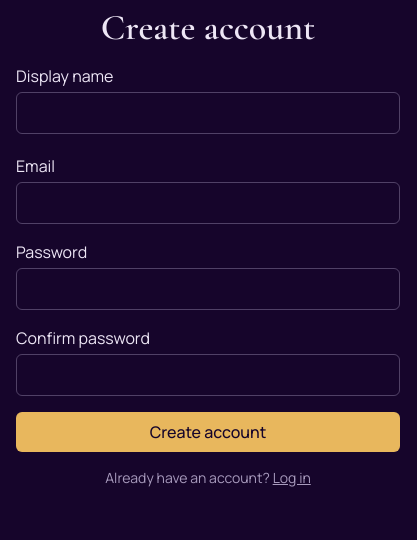
a signUp error renders the error message and no confirmation message
The image size is (417, 540).
Type "nightowl" into the field labelled "Display name" at x=208, y=113, box [16, 92, 400, 134]
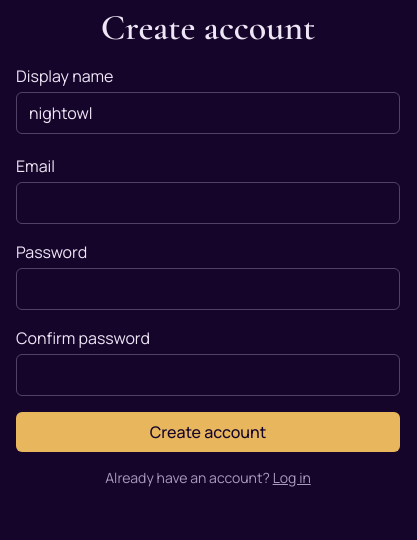
Type "nightowl@example.com" into the field labelled "Email" at x=208, y=203, box [16, 182, 400, 224]
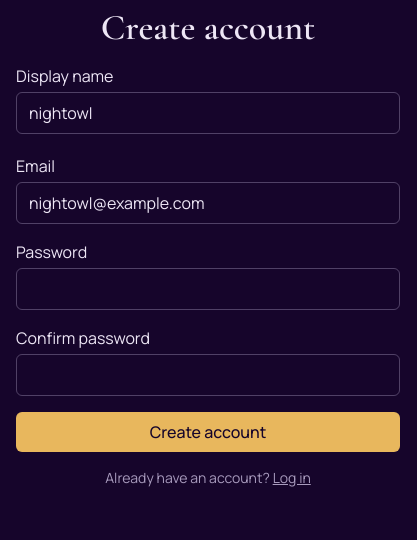
Type "Sup3r$ecret1" into the password field labelled "Password" at x=208, y=289, box [16, 268, 400, 310]
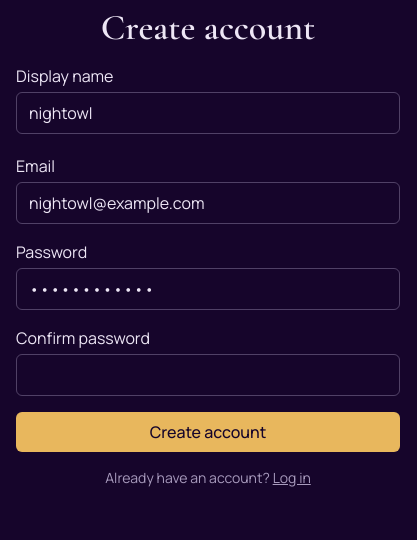
Type "Sup3r$ecret1" into the password field labelled "Confirm password" at x=208, y=375, box [16, 354, 400, 396]
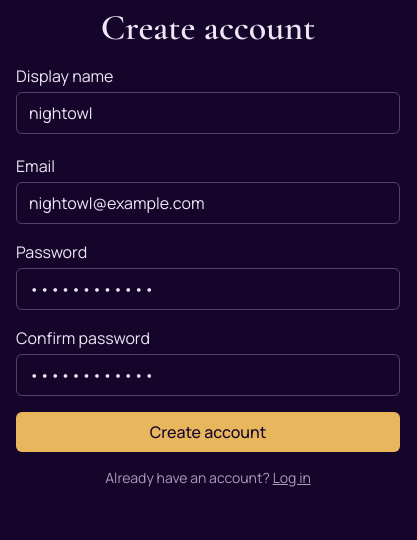
Click the button "Create account" at x=208, y=432, box [16, 412, 400, 452]
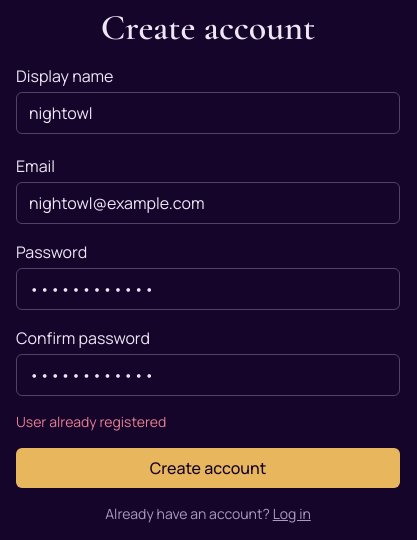
Result: the text "User already registered" is shown at [16, 412, 166, 431]
